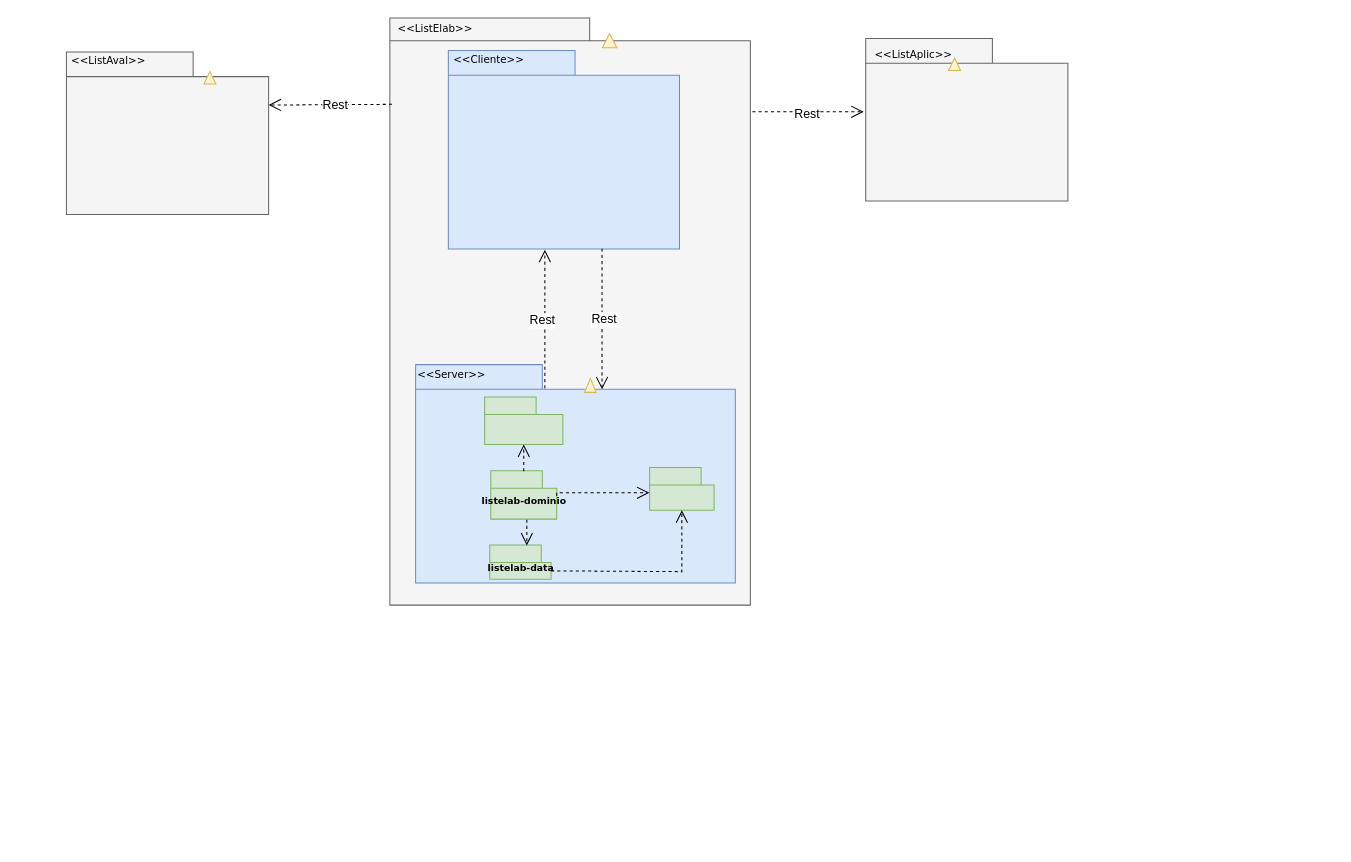
This 1351x862 diagram has some shape labels left out. The shapes that lost their labels are listed below. From the top down, each one's centre as x and y in pixels, then its label:
the point at 523,420: listelab-contrato
the point at 681,488: listelab-servico
